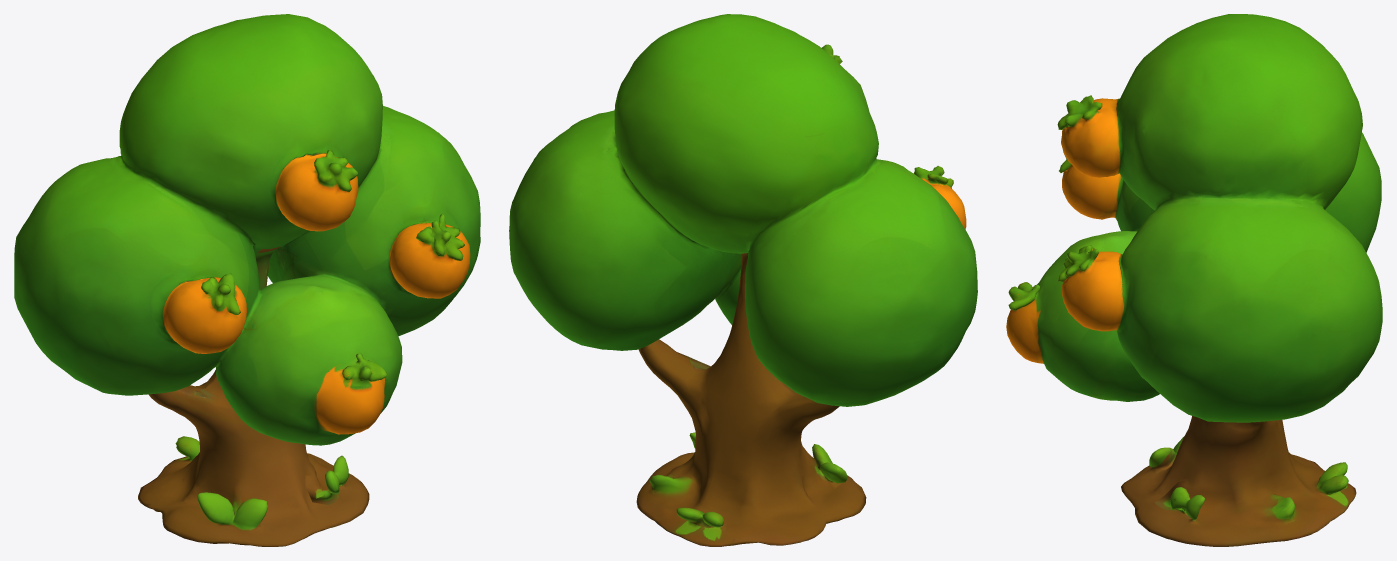
The model's file is orange-tree.glb.
3 views of the same model, side by side, from view 1: azimuth 30°, elevation 25°; view 2: azimuth 150°, elevation 25°; view 3: azimuth 270°, elevation 25° (orthographic).
Parts seen in each view (by area): view 1: Mesh_0.001; view 2: Mesh_0.001; view 3: Mesh_0.001.
Boxes of the visible parts, box(x1,y1,x2,y2) form: Mesh_0.001: box(14, 14, 480, 546); Mesh_0.001: box(509, 14, 977, 546); Mesh_0.001: box(1006, 14, 1382, 546).
Size of the model in its own units: 1.15 by 1.2 by 0.8501.
1 material, 1 textured.
